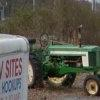Tractor: (28, 25, 93, 94)
